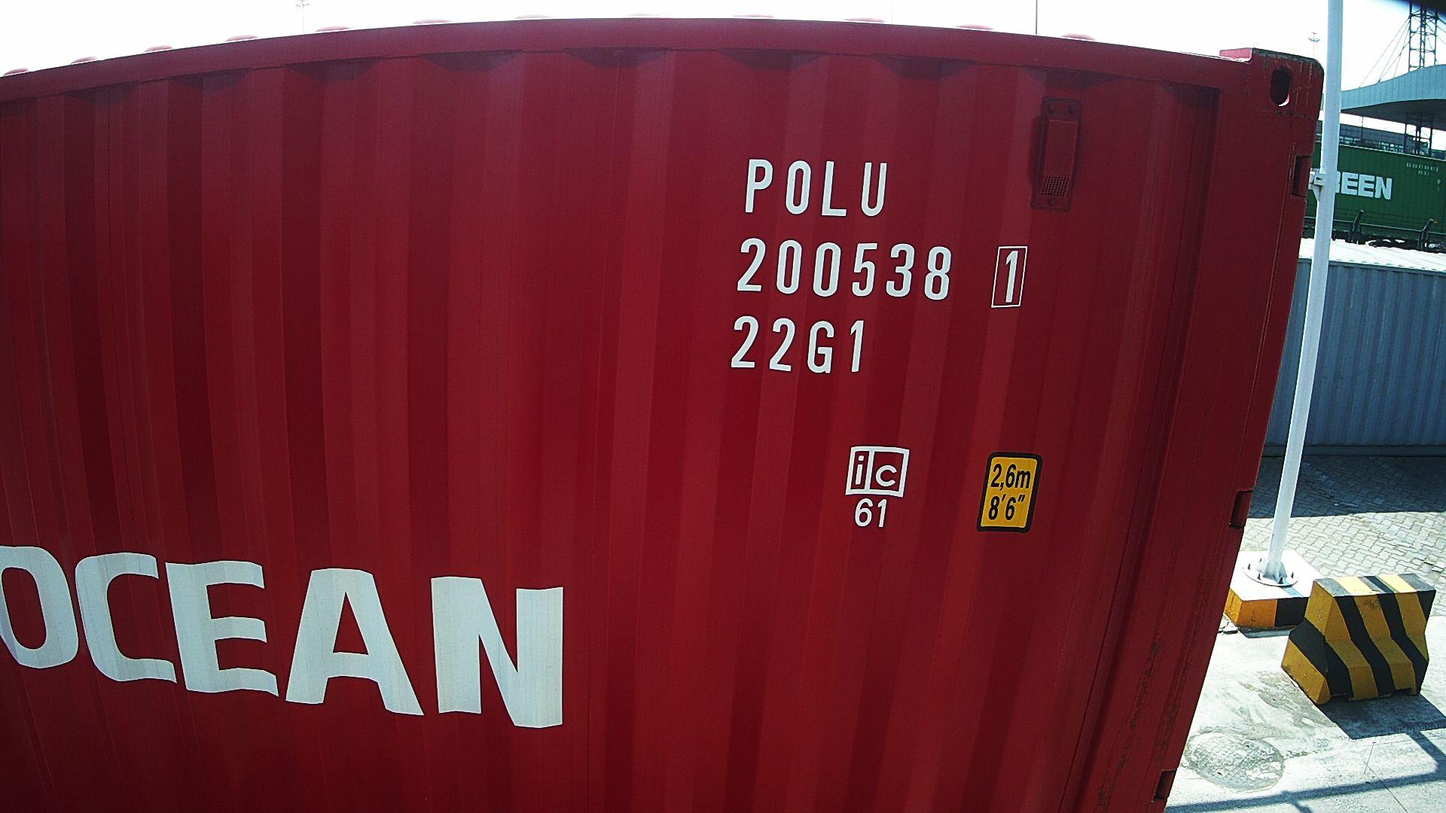container-numbers: (731, 234, 1036, 312), (736, 155, 892, 223), (725, 313, 871, 379)
